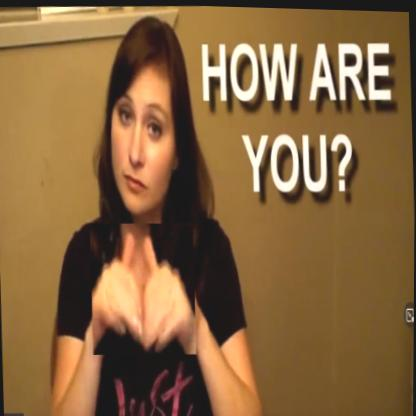HowAreYou: (89, 220, 198, 356)
